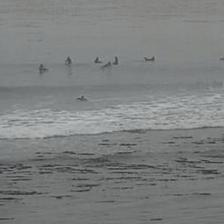surfer: (38, 63, 47, 71), (76, 95, 88, 101), (101, 62, 113, 68), (65, 56, 72, 64), (94, 57, 102, 64), (144, 56, 155, 61), (114, 56, 119, 64), (220, 56, 223, 61)
